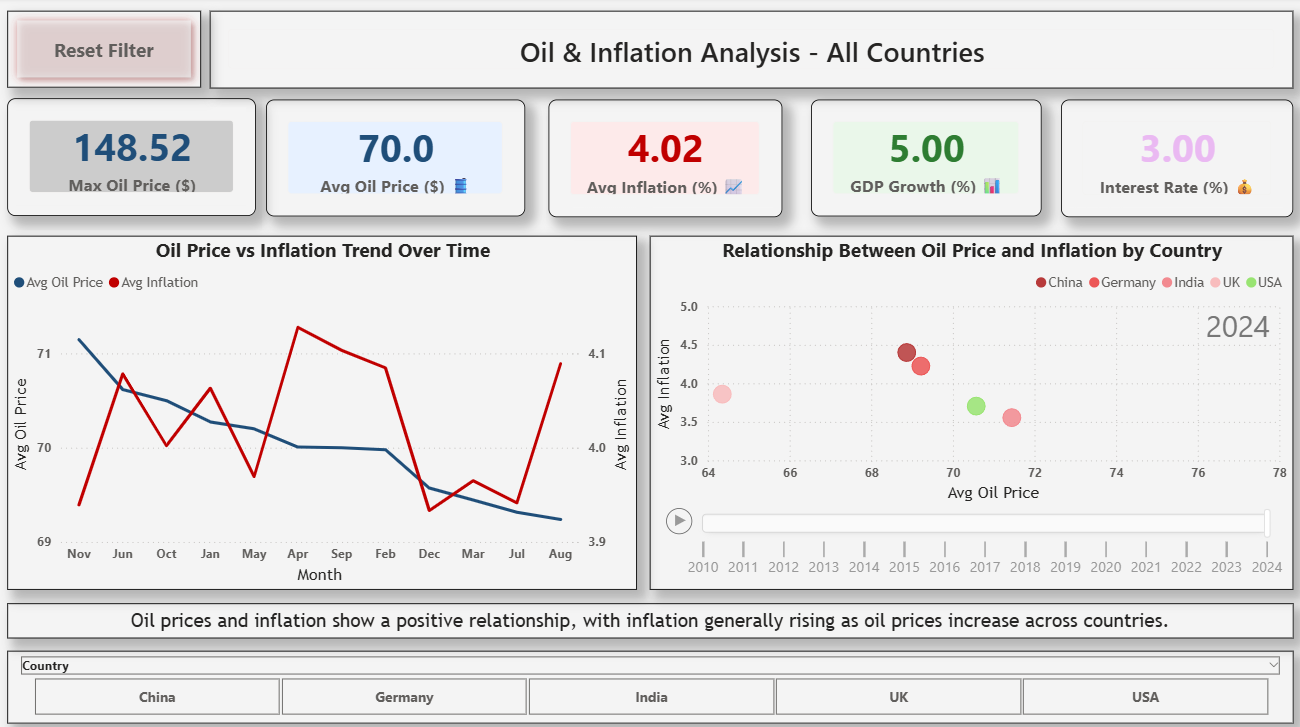

The page's visual inventory and layout, read from the dashboard file:
{"tool":"powerbi","page":{"name":"Overview","canvas":[1280,720],"ordinal":0},"visuals":[{"type":"cardVisual","title":"Avg Oil Price","fields":{"Data":["MEASURES (2).Avg Oil Price"]},"box":[264.4,100.6,253.3,114.2],"z":0},{"type":"cardVisual","title":"Avg Oil Price","fields":{"Data":["MEASURES (2).Avg Inflation"]},"box":[540.1,100.6,228.4,115.5],"z":1},{"type":"cardVisual","title":"Avg Oil Price","fields":{"Data":["MEASURES (2).Avg GDP Growth"]},"box":[797.1,100.6,226,114.2],"z":2},{"type":"cardVisual","title":"Avg Oil Price","fields":{"Data":["MEASURES (2).Avg Interest Rate"]},"box":[1041.6,100.6,227.2,115.5],"z":3},{"type":"lineChart","title":"Oil Price vs Inflation Trend Over Time","fields":{"Y":["MEASURES (2).Avg Oil Price"],"Y2":["MEASURES (2).Avg Inflation"],"Category":["DateTable.Year Hierarchy.Year","DateTable.Year Hierarchy.Month"]},"box":[11,233.6,616.3,346.1],"z":4},{"type":"scatterChart","title":"Relationship Between Oil Price and Inflation by Country","fields":{"X":["MEASURES (2).Avg Oil Price"],"Y":["MEASURES (2).Avg Inflation"],"Series":["crude_oil_inflation.country"],"Play":["DateTable.Year"]},"box":[639.9,233.4,629.3,346.3],"z":5},{"type":"cardVisual","fields":{"Data":["MEASURES (2).Dynamic Title"]},"box":[208.6,13.7,1060.3,75.7],"z":7},{"type":"slicer","fields":{"Values":["crude_oil_inflation.country"]},"box":[11,639.5,1258.3,70.9],"z":8},{"type":"cardVisual","title":"Avg Oil Price","fields":{"Data":["MEASURES (2).Max Oil Price"]},"box":[11,99,243.3,114.9],"z":11},{"type":"actionButton","box":[10.5,13.5,189.7,75.3],"z":12},{"type":"textbox","box":[11,593.1,1258.3,34.2],"z":14}]}

Visuals, with their boxes in screenshot pixels (x1, y1, x2, y2), scaled from the page's 1280x720 canvas onto the 1300x727 screenshot:
"Avg Oil Price" cardVisual: box(269, 102, 526, 217)
"Avg Oil Price" cardVisual: box(549, 102, 781, 218)
"Avg Oil Price" cardVisual: box(810, 102, 1039, 217)
"Avg Oil Price" cardVisual: box(1058, 102, 1289, 218)
"Oil Price vs Inflation Trend Over Time" lineChart: box(11, 236, 637, 585)
"Relationship Between Oil Price and Inflation by Country" scatterChart: box(650, 236, 1289, 585)
cardVisual - MEASURES (2).Dynamic Title: box(212, 14, 1289, 90)
slicer - crude_oil_inflation.country: box(11, 646, 1289, 717)
"Avg Oil Price" cardVisual: box(11, 100, 258, 216)
actionButton: box(11, 14, 203, 90)
textbox: box(11, 599, 1289, 633)
